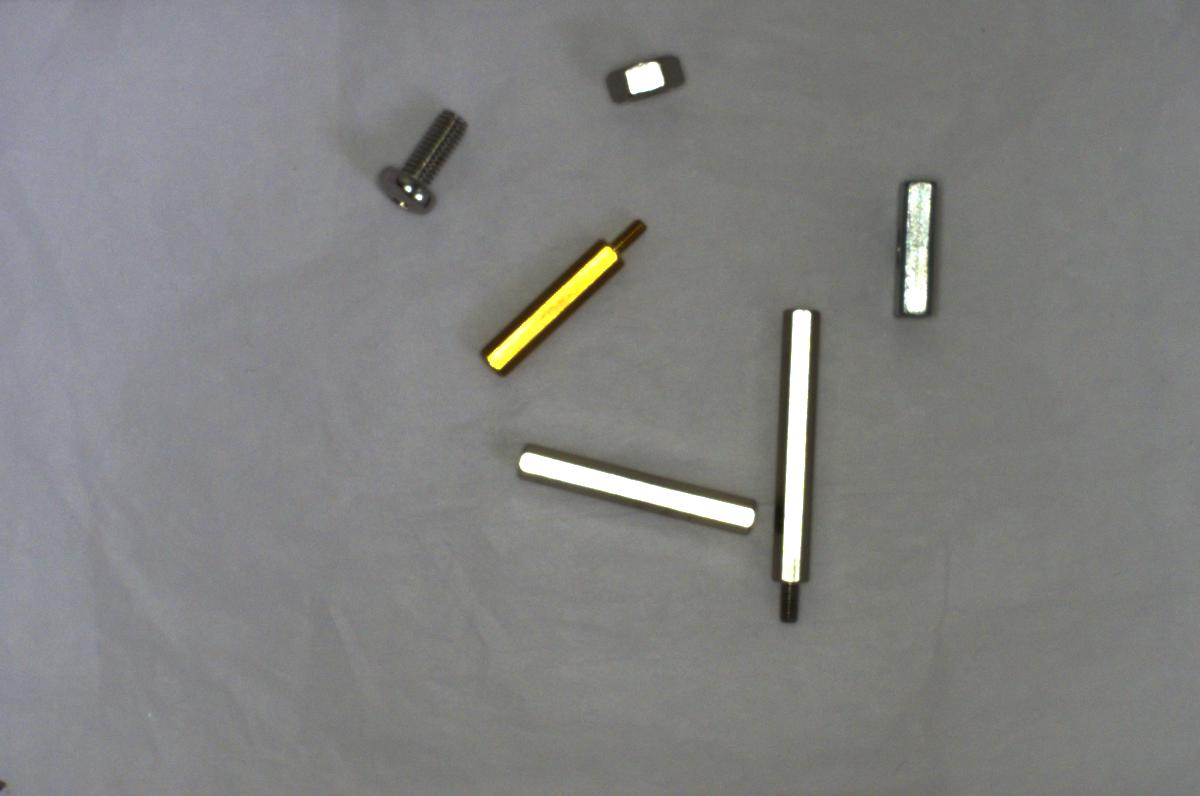Double hexagonal column: (499, 438, 765, 553)
Hexagon nut: (598, 36, 691, 112)
Hexagon pillar: (484, 209, 646, 383)
Hexagonal steel column: (760, 296, 824, 622)
Rectangular nut: (879, 172, 944, 328)
Round head screw: (371, 98, 477, 221)
